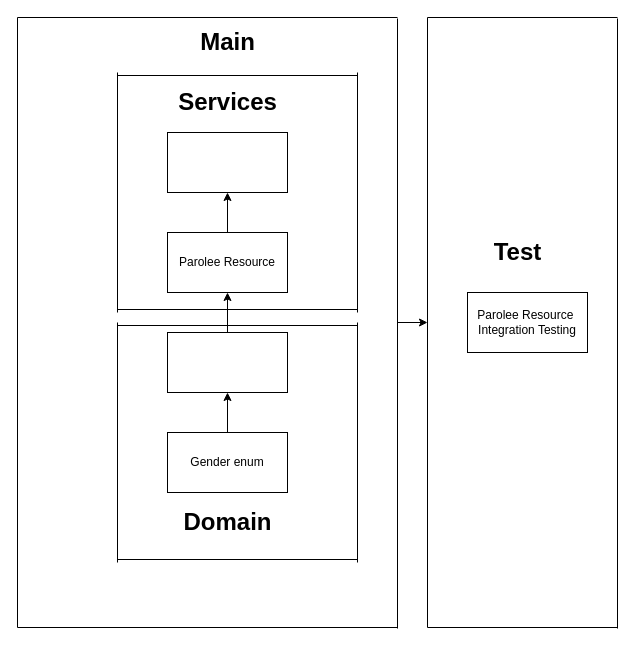
Some shapes in this 636 by 647 pixel diagram are drawn without their labels. The box of each missing label's shape, as (x1, y1, x2, y2) in pixels:
Parolee Application: (166, 132, 288, 192)
Parolee Domain: (166, 332, 288, 392)
